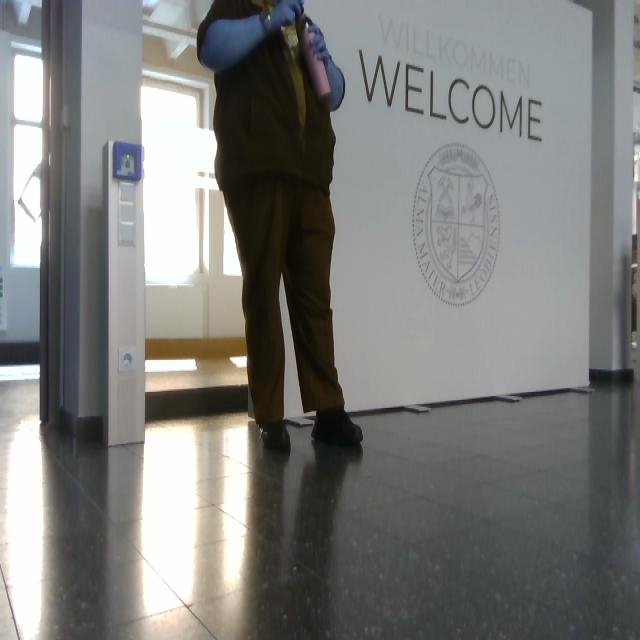door: (105, 140, 147, 446)
light bulb: (280, 1, 333, 102), (18, 160, 49, 224)
person: (197, 1, 365, 452)
pillar: (41, 1, 147, 446)
tiled floor: (2, 372, 639, 638)
